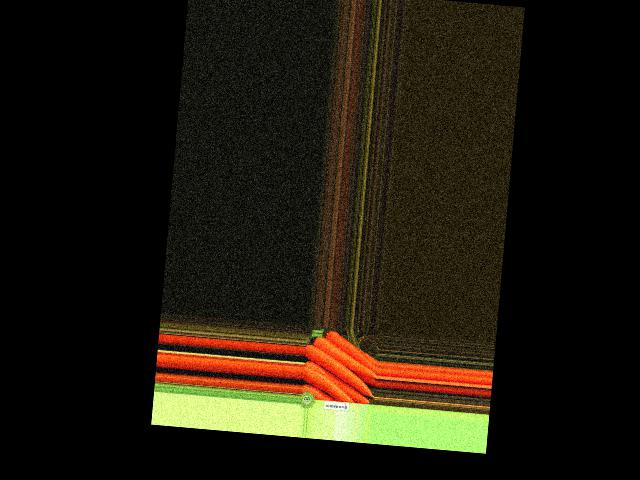carrot: (301, 359, 374, 406)
